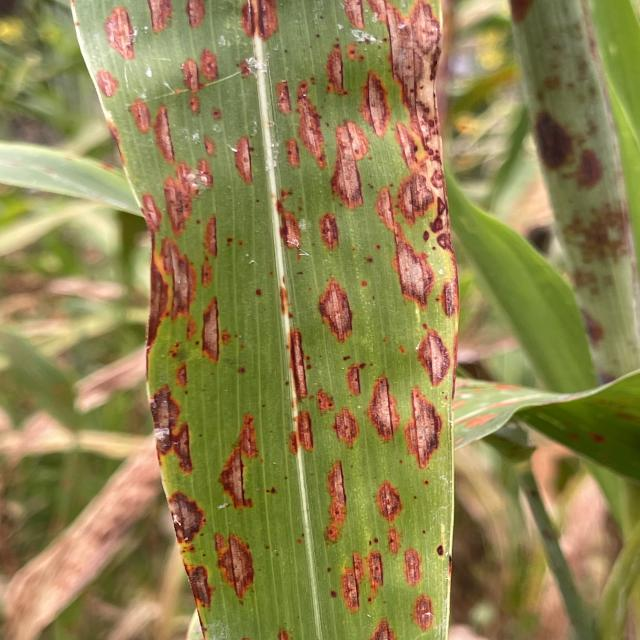millet_rust: (72, 0, 459, 640), (432, 354, 640, 484)
